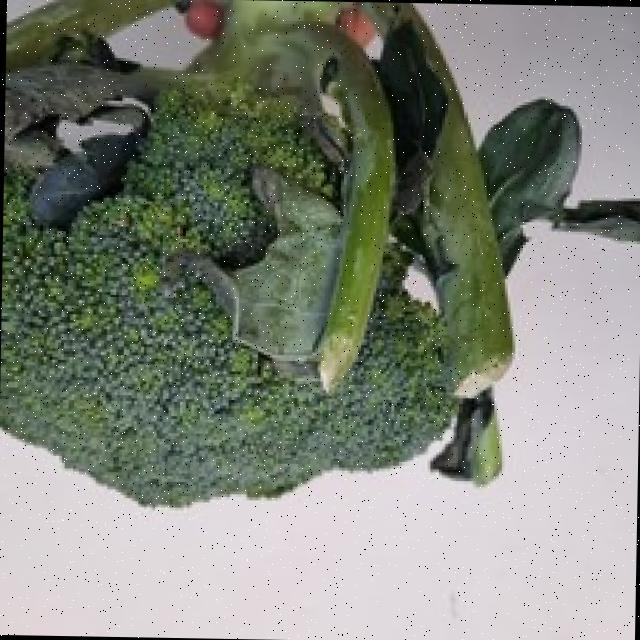Broccoli: (0, 93, 455, 505), (0, 94, 455, 505)
